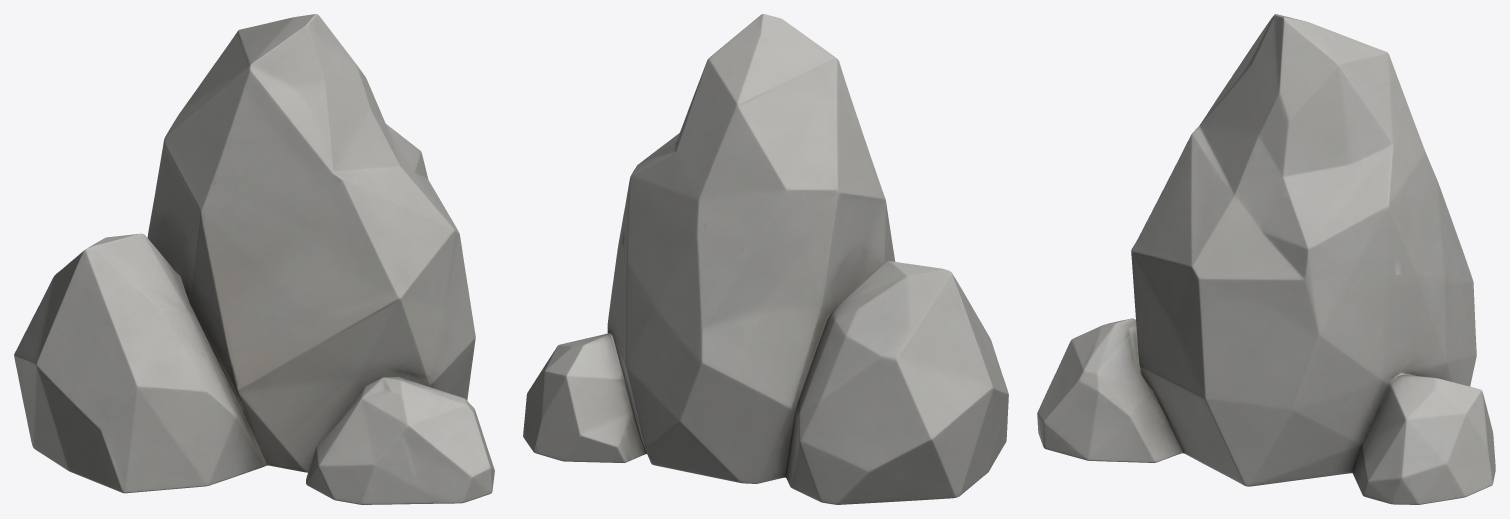
File: rocks.glb
The picture shows the model from 3 angles, left to right: view 1: azimuth 30°, elevation 25°; view 2: azimuth 150°, elevation 25°; view 3: azimuth 270°, elevation 25°; orthographic projection. The views are drawn at different scales.
Parts seen in each view (by area): view 1: node_0; view 2: node_0; view 3: node_0.
Part boxes in pixels (x1,y1,x2,y2): node_0: (14,14,494,504); node_0: (523,14,1008,504); node_0: (1037,14,1495,504).
Size of the model in its own units: 0.7923 by 0.7139 by 0.7315.
Materials: 1 (1 with a texture image).
